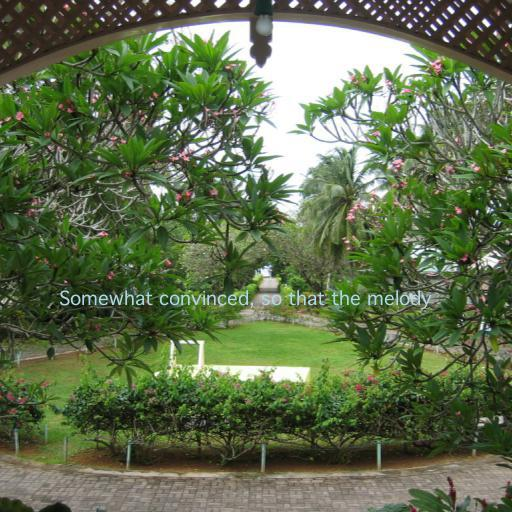Geneva: (58, 290, 432, 309)
